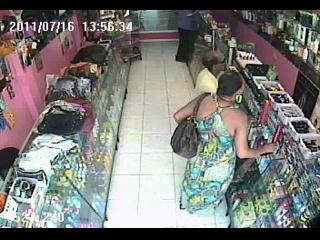Normal: (172, 70, 280, 226), (170, 93, 210, 159), (194, 51, 227, 96), (175, 10, 201, 66)
